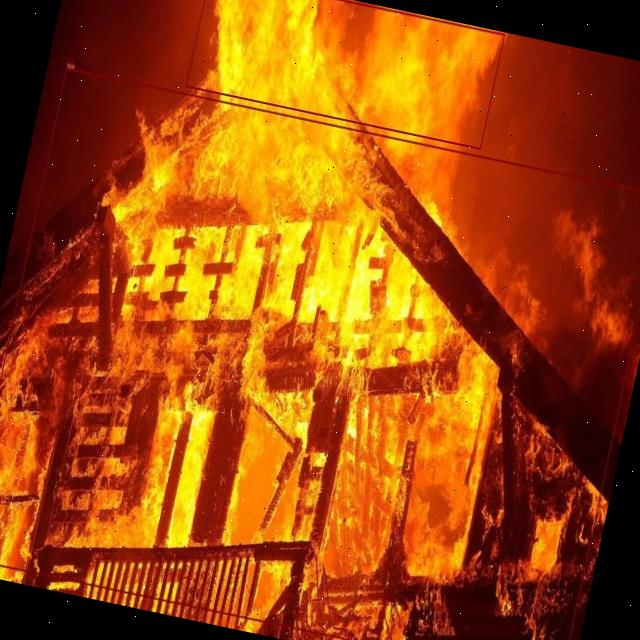fire: (0, 67, 640, 640), (184, 0, 504, 149)
